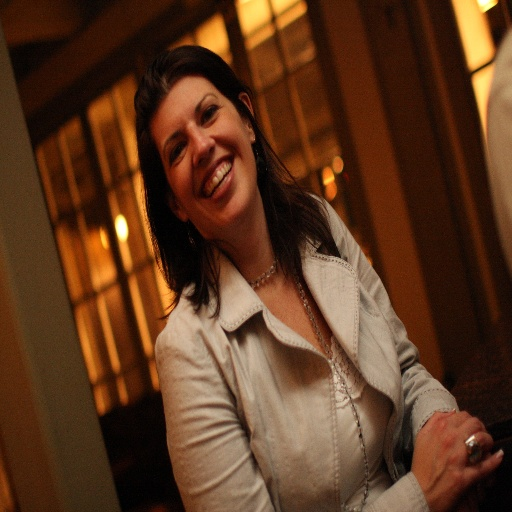hand: (394, 381, 506, 507)
